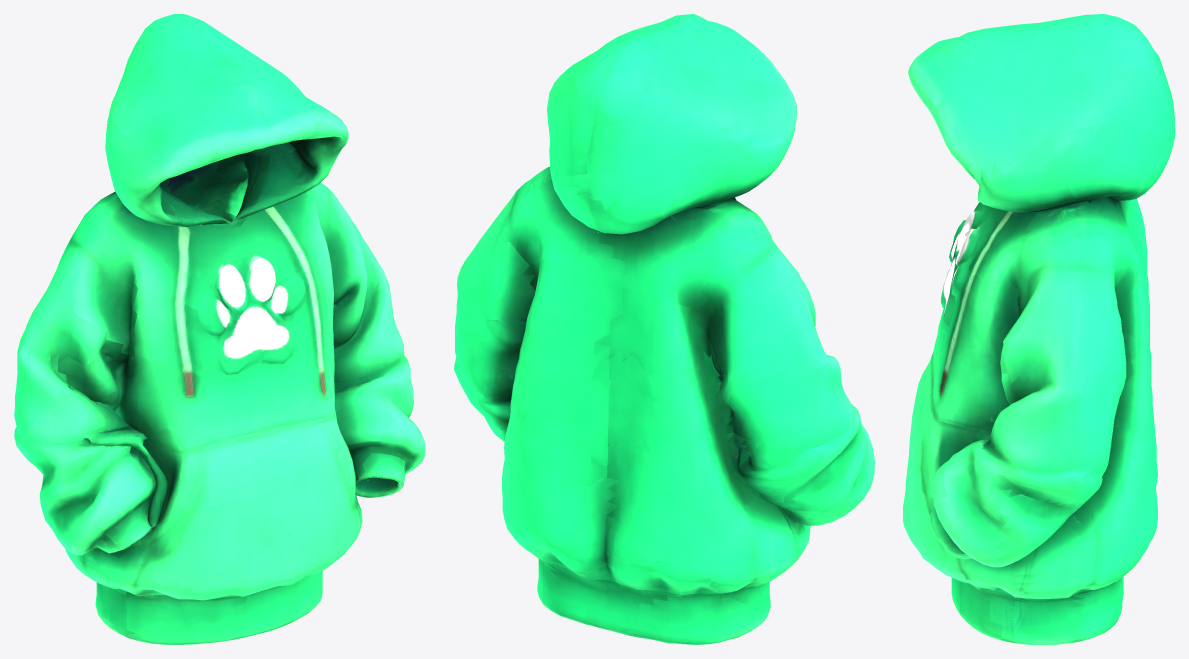
Rendered from hoodie_green.glb.
3 renders of one model, left to right at view 1: azimuth 30°, elevation 25°; view 2: azimuth 150°, elevation 25°; view 3: azimuth 270°, elevation 25°, orthographic. The views are drawn at different scales.
Size of the model in its own units: 1.32 by 1.91 by 0.8102.
1 material, 1 textured.
